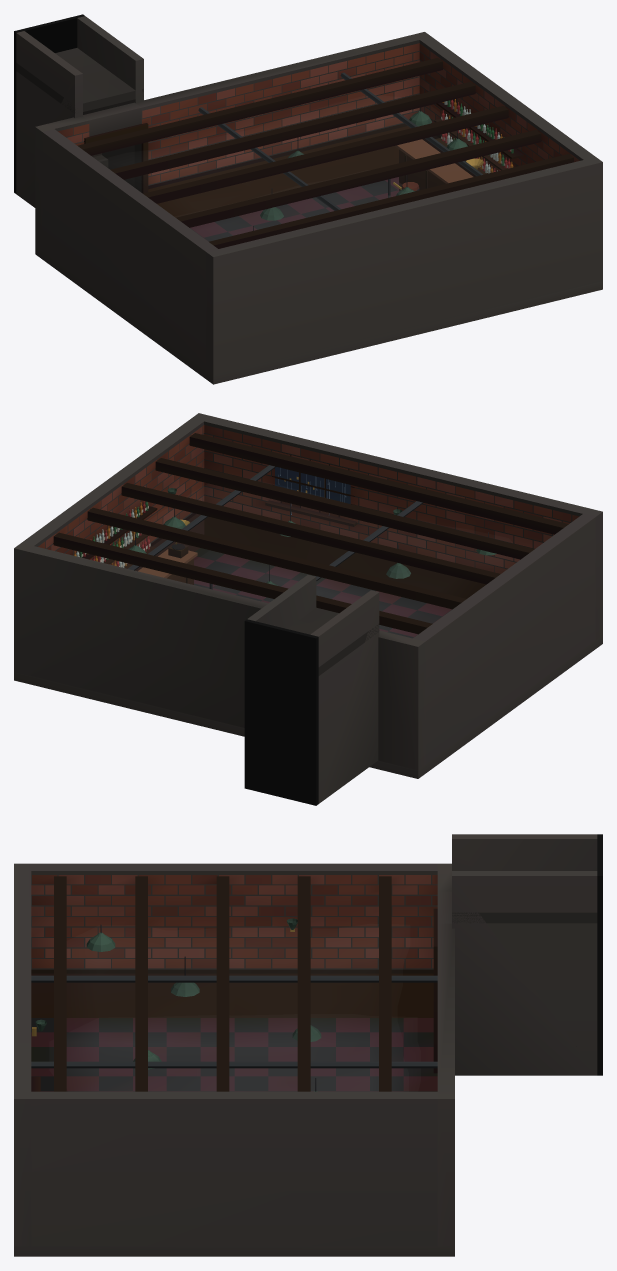
The model's file is den_room.glb.
3 renders of one model, top to bottom at view 1: azimuth 30°, elevation 25°; view 2: azimuth 150°, elevation 25°; view 3: azimuth 270°, elevation 25°, orthographic. The views are drawn at different scales.
Visible parts, largest first — view 1: den_room, front_wall, ceiling, stairs, fog; view 2: den_room, front_wall, ceiling, stairs, fog; view 3: den_room, stairs, ceiling, fog, front_wall.
Part boxes in pixels (bbox=[...]): den_room: bbox=[35, 37, 602, 384]; front_wall: bbox=[35, 32, 431, 250]; ceiling: bbox=[77, 58, 573, 248]; stairs: bbox=[14, 14, 143, 207]; fog: bbox=[198, 186, 397, 240]; den_room: bbox=[14, 413, 602, 778]; front_wall: bbox=[14, 543, 425, 769]; ceiling: bbox=[53, 433, 568, 634]; stairs: bbox=[244, 575, 379, 805]; fog: bbox=[202, 570, 399, 634]; den_room: bbox=[14, 863, 454, 1256]; stairs: bbox=[452, 834, 602, 1075]; ceiling: bbox=[31, 876, 437, 1091]; fog: bbox=[91, 1032, 378, 1090]; front_wall: bbox=[433, 863, 454, 1246].
Bounding box in the file's own units: 9.6 × 4 × 10.15.
